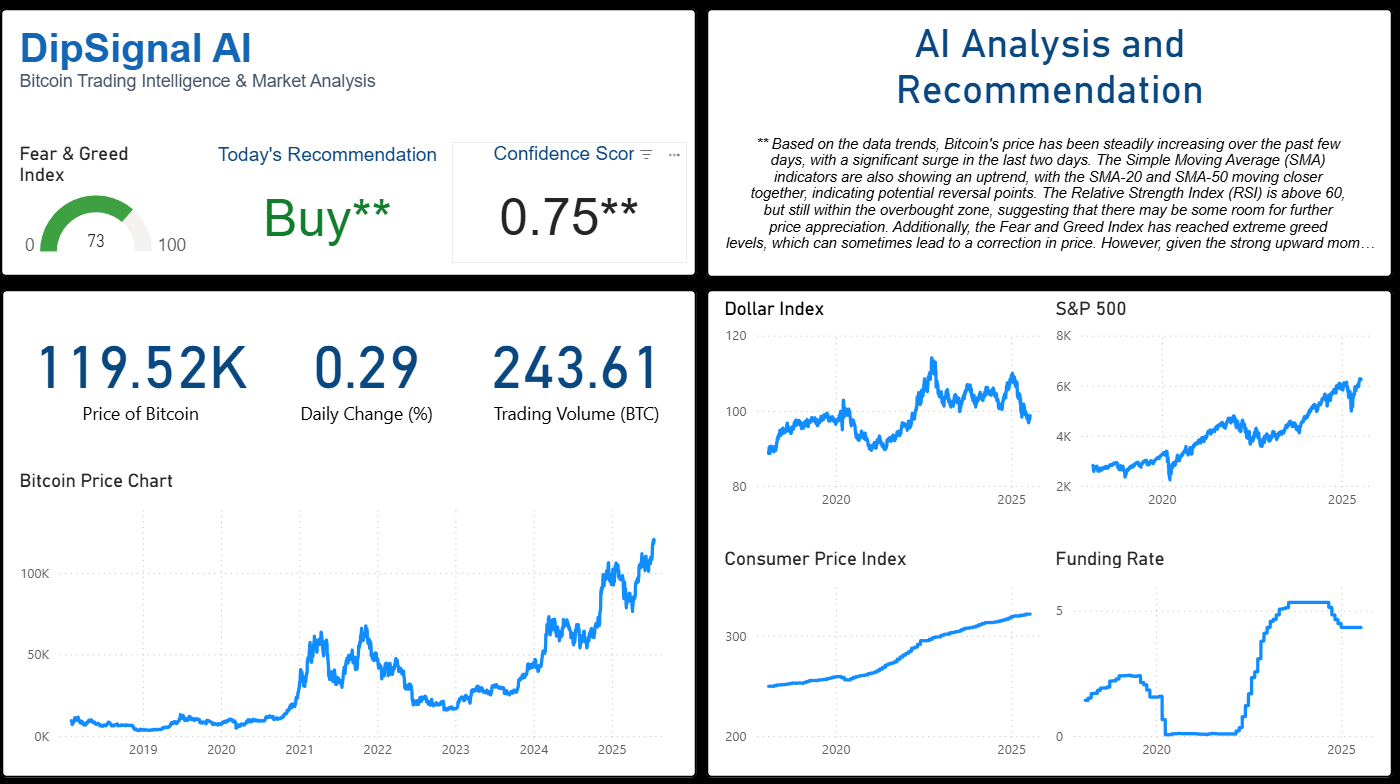

What the dashboard file says about the page in this screenshot:
{"tool":"powerbi","page":{"name":"BTC","canvas":[1280,720],"ordinal":0},"visuals":[{"type":"pageNavigator","box":[0,6.3,1280.4,49.9],"z":0},{"type":"shape","box":[7.3,62.8,1262.5,95.3],"z":1000},{"type":"shape","box":[7.3,165.9,631.2,545.7],"z":2000},{"type":"shape","box":[646.3,165.9,625.4,266.5],"z":3000},{"type":"image","box":[942,65.7,299.6,89.5],"z":4000},{"type":"lineChart","title":"Bitcoin Price Chart","fields":{"Category":["dim_date.Date"],"Y":["Avg(btc_technical.close)"]},"box":[18.9,392.5,598.2,306.4],"z":5000},{"type":"card","fields":{"Values":["_measures.Latest pct_change"]},"box":[246.6,174.9,180.5,108.8],"z":6000},{"type":"card","fields":{"Values":["_measures.BTC Price"]},"box":[35.4,174.9,211.3,108.8],"z":7000},{"type":"card","fields":{"Values":["_measures.Trading Volume"]},"box":[427.4,174.6,200.4,108.9],"z":8000},{"type":"tableEx","title":"LATEST BITCOIN RELATED NEWS","fields":{"Values":["news_scored.date","news_scored.title"]},"box":[646.3,439.2,623.5,272.3],"z":9000},{"type":"slicer","fields":{"Values":["btc_technical.date"]},"box":[19,290.1,227.6,95.2],"z":10000},{"type":"card","title":"AI Analysis","fields":{"Values":["Max(llama_recommendations_btc.rationale)"]},"box":[658,174.6,598.2,241.2],"z":11000},{"type":"card","fields":{"Values":["Max(btc_technical.high)"]},"box":[317.5,290.3,299.6,102.1],"z":12000},{"type":"image","box":[780.9,174.9,75,68.6],"z":13000},{"type":"textbox","box":[19.5,72.3,317.4,83.4],"z":14000}]}

Visuals, with their boxes in screenshot pixels (x1, y1, x2, y2), scaled from the page's 1280x720 canvas onto the 1400x784 screenshot:
pageNavigator: {"x1": 0, "y1": 7, "x2": 1399, "y2": 61}
shape: {"x1": 8, "y1": 68, "x2": 1389, "y2": 172}
shape: {"x1": 8, "y1": 181, "x2": 698, "y2": 775}
shape: {"x1": 707, "y1": 181, "x2": 1391, "y2": 471}
image: {"x1": 1030, "y1": 72, "x2": 1358, "y2": 169}
"Bitcoin Price Chart" lineChart: {"x1": 21, "y1": 427, "x2": 675, "y2": 761}
card - _measures.Latest pct_change: {"x1": 270, "y1": 190, "x2": 467, "y2": 309}
card - _measures.BTC Price: {"x1": 39, "y1": 190, "x2": 270, "y2": 309}
card - _measures.Trading Volume: {"x1": 467, "y1": 190, "x2": 687, "y2": 309}
"LATEST BITCOIN RELATED NEWS" tableEx: {"x1": 707, "y1": 478, "x2": 1389, "y2": 775}
slicer - btc_technical.date: {"x1": 21, "y1": 316, "x2": 270, "y2": 420}
"AI Analysis" card: {"x1": 720, "y1": 190, "x2": 1374, "y2": 453}
card - Max(btc_technical.high): {"x1": 347, "y1": 316, "x2": 675, "y2": 427}
image: {"x1": 854, "y1": 190, "x2": 936, "y2": 265}
textbox: {"x1": 21, "y1": 79, "x2": 368, "y2": 170}
